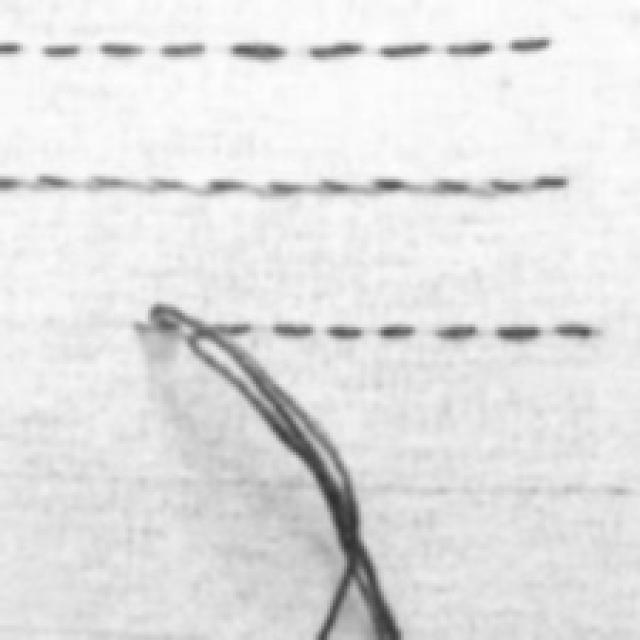stitch: (345, 178, 435, 194), (129, 178, 211, 195), (185, 179, 272, 195), (466, 178, 540, 196), (405, 180, 495, 194), (76, 175, 152, 191), (244, 181, 321, 196), (26, 174, 94, 190), (309, 41, 364, 59), (231, 42, 285, 60), (299, 179, 365, 193), (379, 42, 432, 58), (435, 322, 478, 341), (495, 324, 542, 341), (446, 41, 494, 56), (554, 321, 595, 338), (272, 321, 315, 337), (376, 322, 416, 339), (509, 36, 551, 52), (525, 175, 568, 190), (1, 174, 35, 192), (326, 324, 364, 339), (100, 46, 144, 58), (161, 46, 205, 58), (42, 46, 80, 58), (215, 322, 252, 334), (1, 41, 21, 56)
